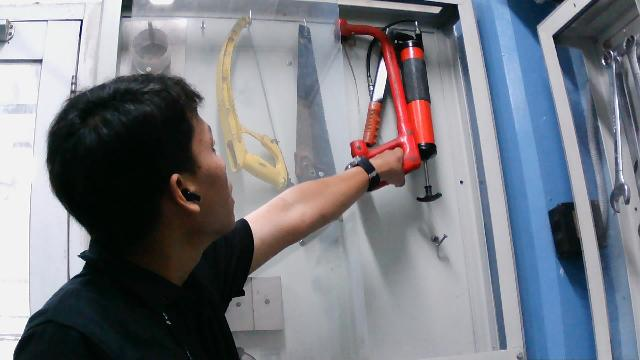gergaji_besi: (330, 15, 425, 188)
